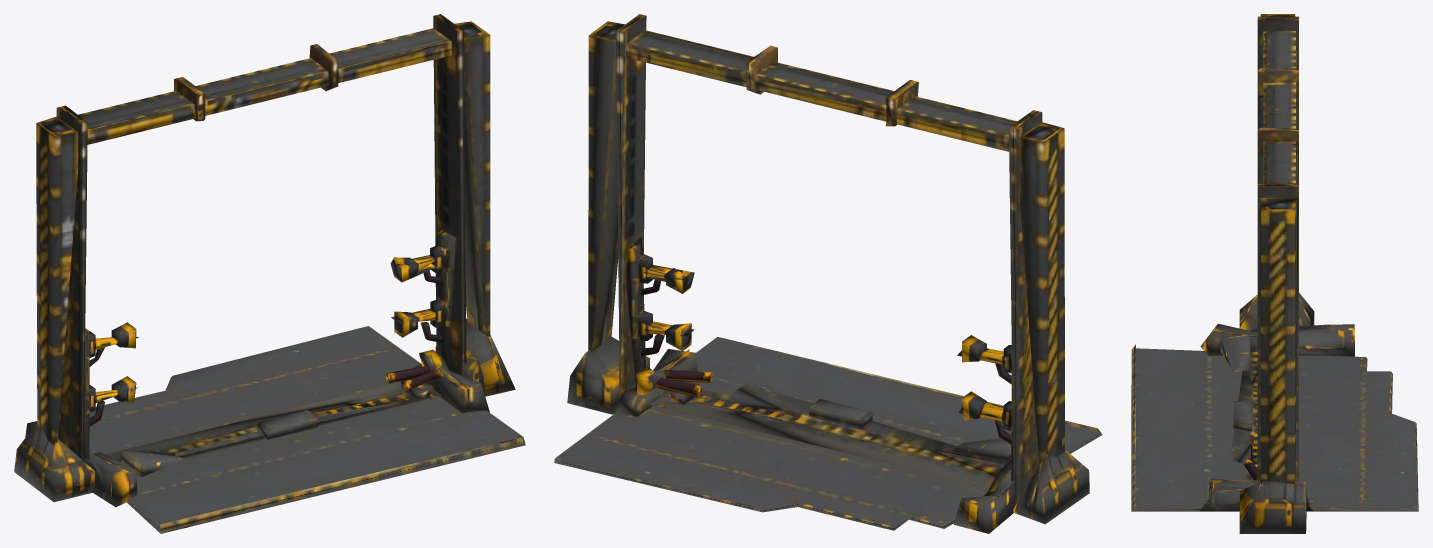
The model's file is ship-docking-stand.glb.
3 renders of one model, left to right at view 1: azimuth 30°, elevation 25°; view 2: azimuth 150°, elevation 25°; view 3: azimuth 270°, elevation 25°, orthographic. The views are drawn at different scales.
Parts seen in each view (by area): view 1: geometry_0; view 2: geometry_0; view 3: geometry_0.
Part boxes in pixels (bbox=[...]): geometry_0: bbox=[14, 14, 525, 533]; geometry_0: bbox=[554, 14, 1102, 533]; geometry_0: bbox=[1131, 14, 1418, 533].
Bounding box in the file's own units: 0.957 × 0.7236 × 0.5683.
Materials: 1 (1 with a texture image).
